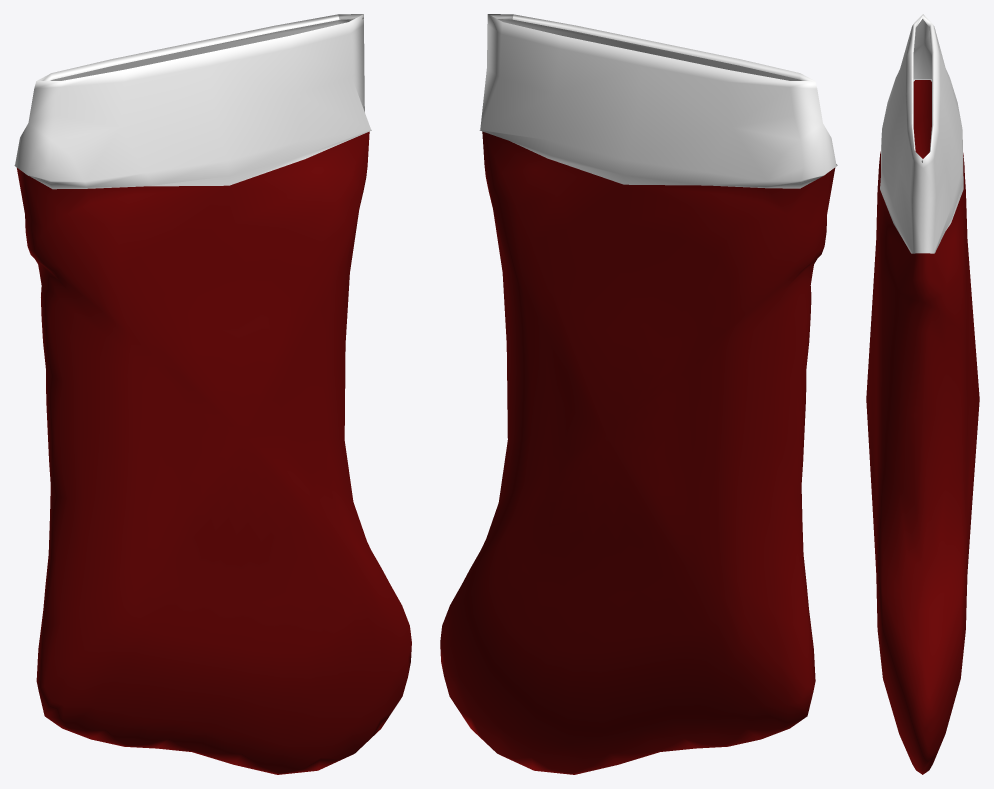
File: basNoel.fbx
The picture shows the model from 3 angles, left to right: view 1: azimuth 30°, elevation 25°; view 2: azimuth 150°, elevation 25°; view 3: azimuth 270°, elevation 25°; orthographic projection. The views are drawn at different scales.
Visible parts, largest first — view 1: polySurface1; view 2: polySurface1; view 3: polySurface1.
Part boxes in pixels (left/top/right/bottom): polySurface1: left=14, top=14, right=411, bottom=774; polySurface1: left=440, top=14, right=837, bottom=774; polySurface1: left=866, top=14, right=979, bottom=774.
Size of the model in its own units: 9.14 by 17 by 2.74.
